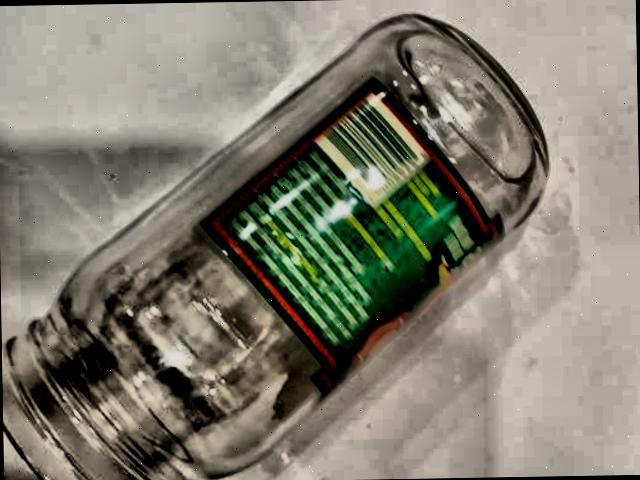Almennt: (0, 4, 567, 480)
